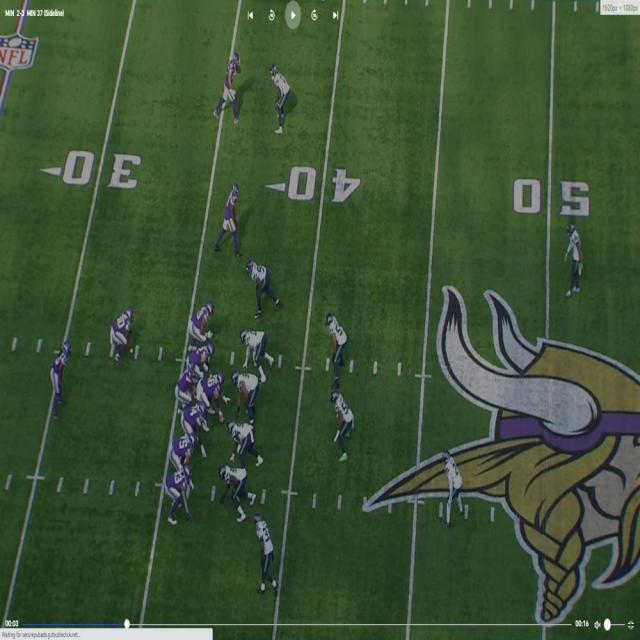center: (204, 369, 228, 415)
db: (257, 513, 275, 592), (447, 451, 464, 519), (569, 222, 585, 294), (271, 64, 290, 124)
lb: (247, 261, 279, 313), (324, 315, 347, 376), (336, 390, 354, 460)
qb: (177, 360, 195, 407)
skill: (218, 182, 242, 247), (169, 466, 194, 527), (52, 343, 73, 408), (221, 55, 242, 119), (111, 308, 132, 362)
